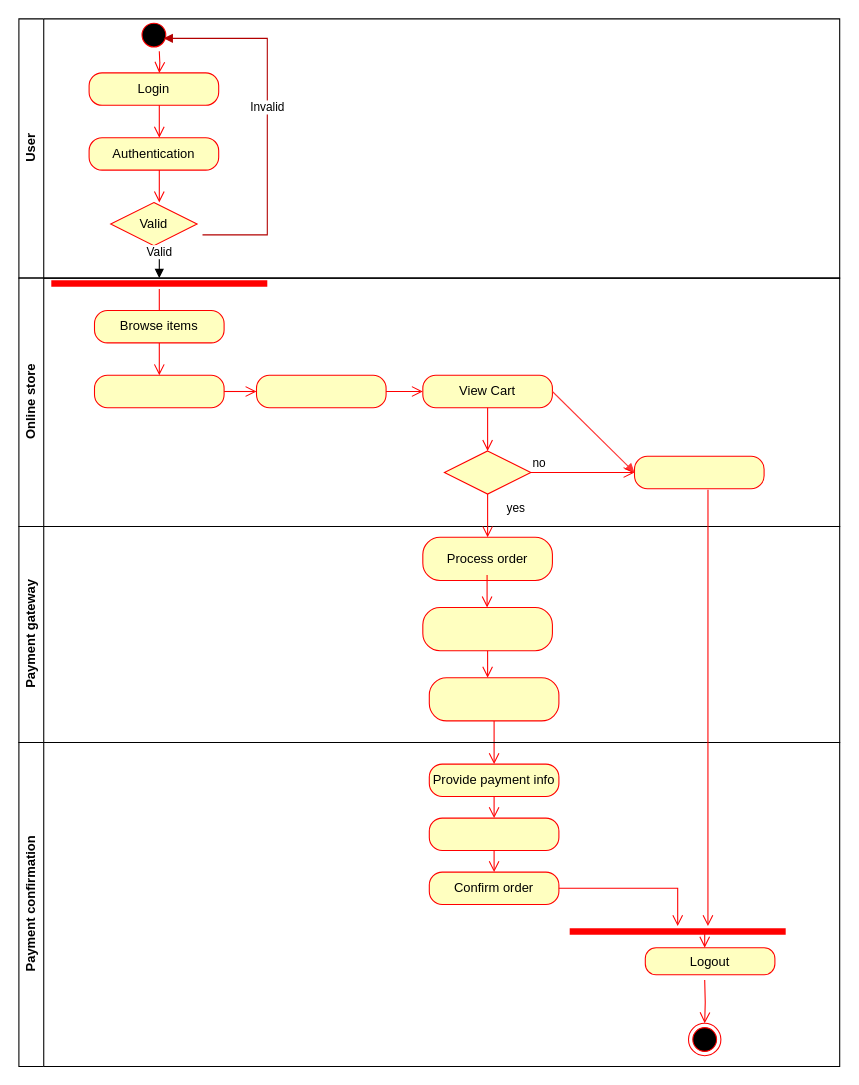
The diagram is 859 pixels wide and 1085 high, and some of its shapes have lost their labels. Here are the shapes that lost their labels. From the top down, the centre of each, then its label:
At (158,391): "Select items".
At (320,391): "Add to cart".
At (487,472): "Order OK".
At (698,472): "Cancel order".
At (487,628): "Request order".
At (493,699): "Make payment".
At (493,833): "Process payment".
